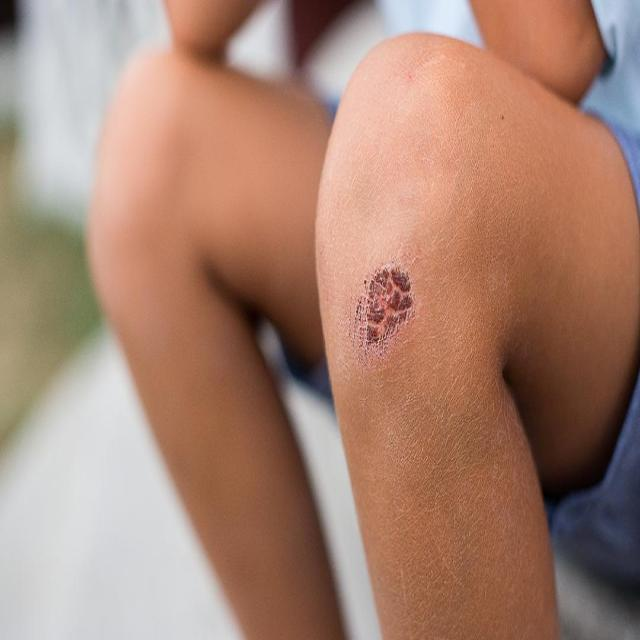Cut: (343, 266, 417, 368)
